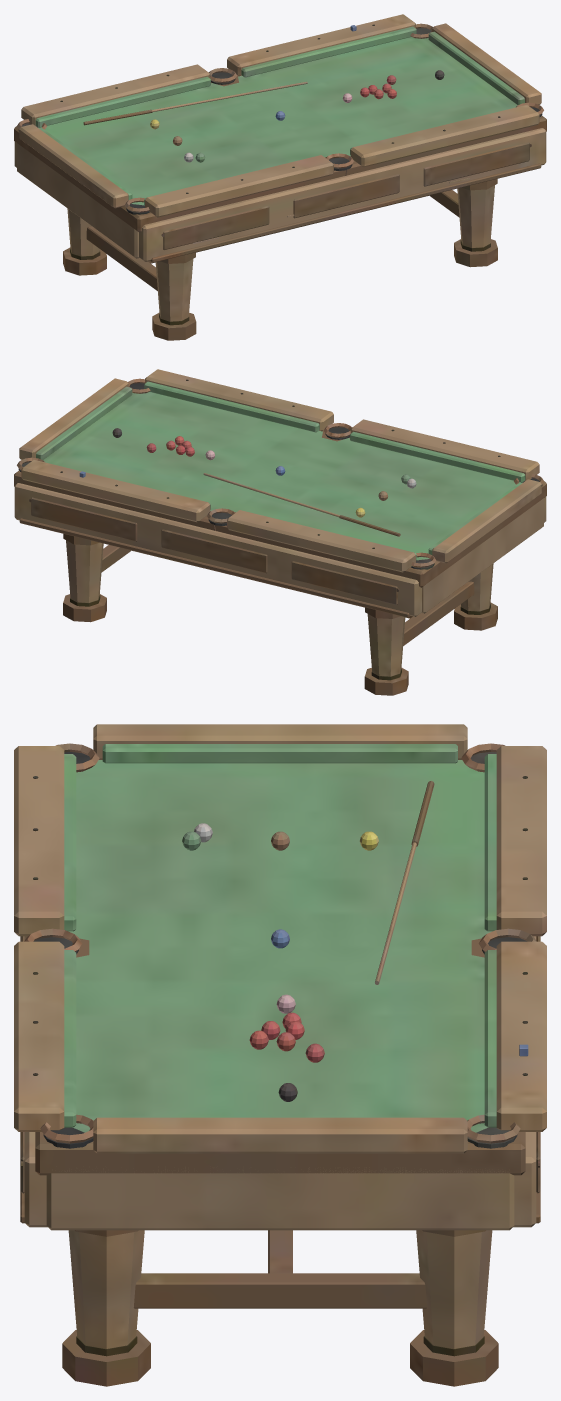
File: SP08_snooker_table.glb
The picture shows the model from 3 angles, top to bottom: view 1: azimuth 30°, elevation 25°; view 2: azimuth 150°, elevation 25°; view 3: azimuth 270°, elevation 25°; orthographic projection. The views are drawn at different scales.
Visible parts, largest first — view 1: Solid timber bed; view 2: Solid timber bed; view 3: Solid timber bed.
Boxes of the visible parts, left/top/right/bottom form: Solid timber bed: left=14, top=14, right=546, bottom=340; Solid timber bed: left=14, top=369, right=546, bottom=695; Solid timber bed: left=14, top=724, right=546, bottom=1386.
Bounding box in the file's own units: 2.5 × 0.877 × 1.38.
Materials: 15 (15 with a texture image).
